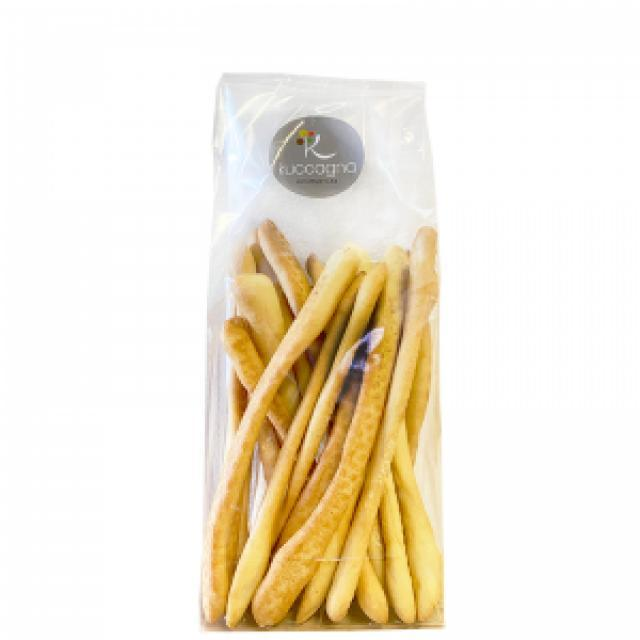Grissini: (230, 235, 432, 611)
